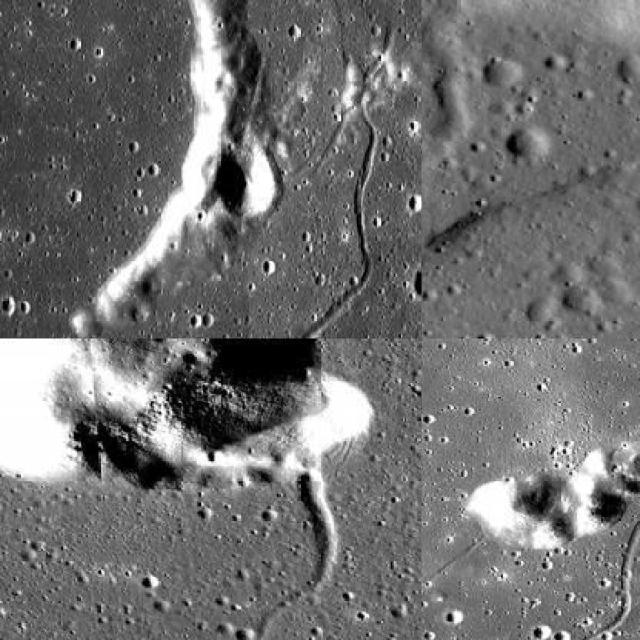rille: (432, 338, 638, 638), (23, 470, 340, 638), (258, 43, 389, 337), (422, 0, 472, 266)
